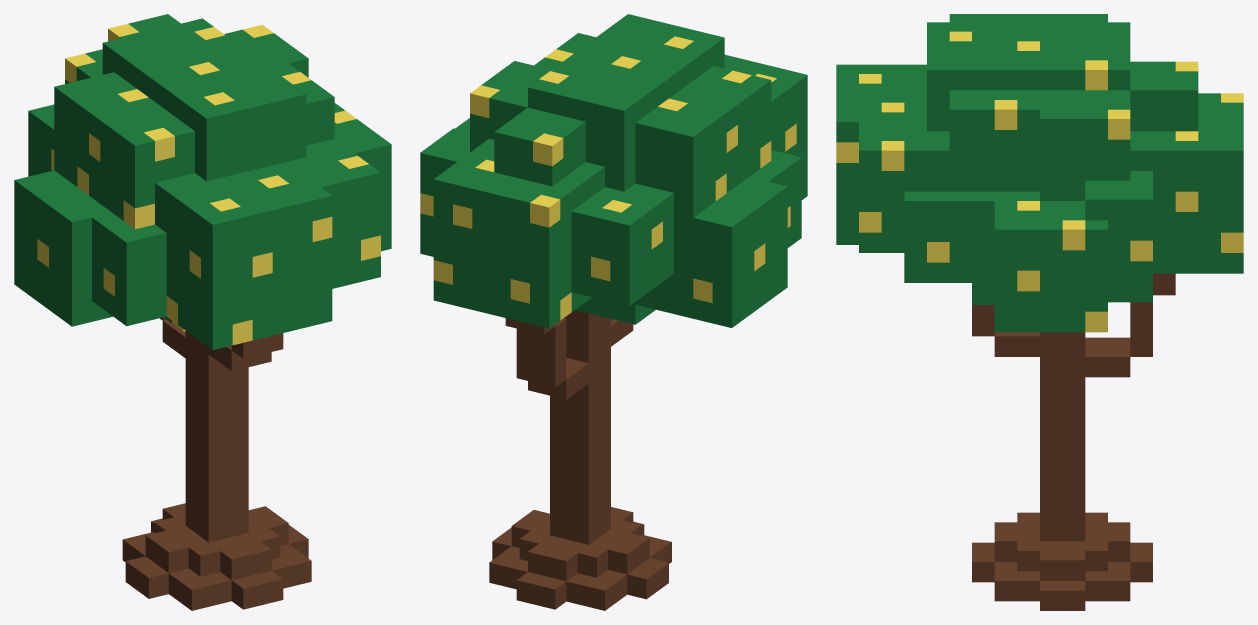
The model's file is yellow_tree2.obj.
The picture shows the model from 3 angles, left to right: view 1: azimuth 30°, elevation 25°; view 2: azimuth 150°, elevation 25°; view 3: azimuth 270°, elevation 25°; orthographic projection. The views are drawn at different scales.
Size of the model in its own units: 1.6 by 2.5 by 1.8.
1 material, 1 textured.
